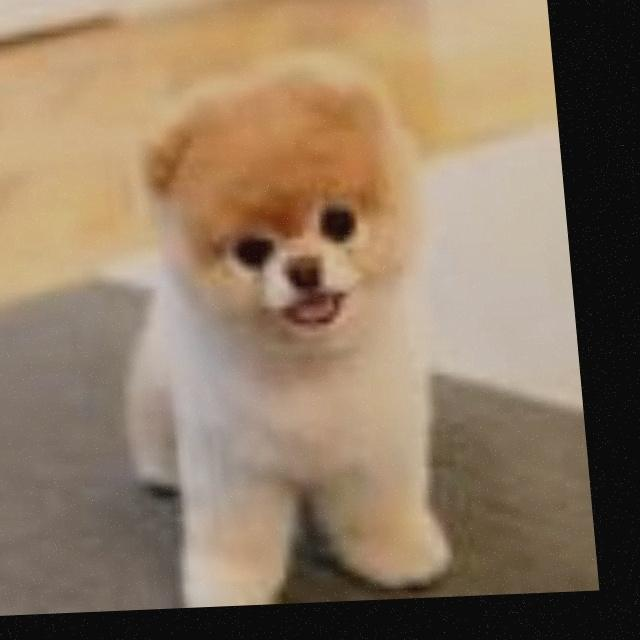dog: (101, 40, 454, 377)
